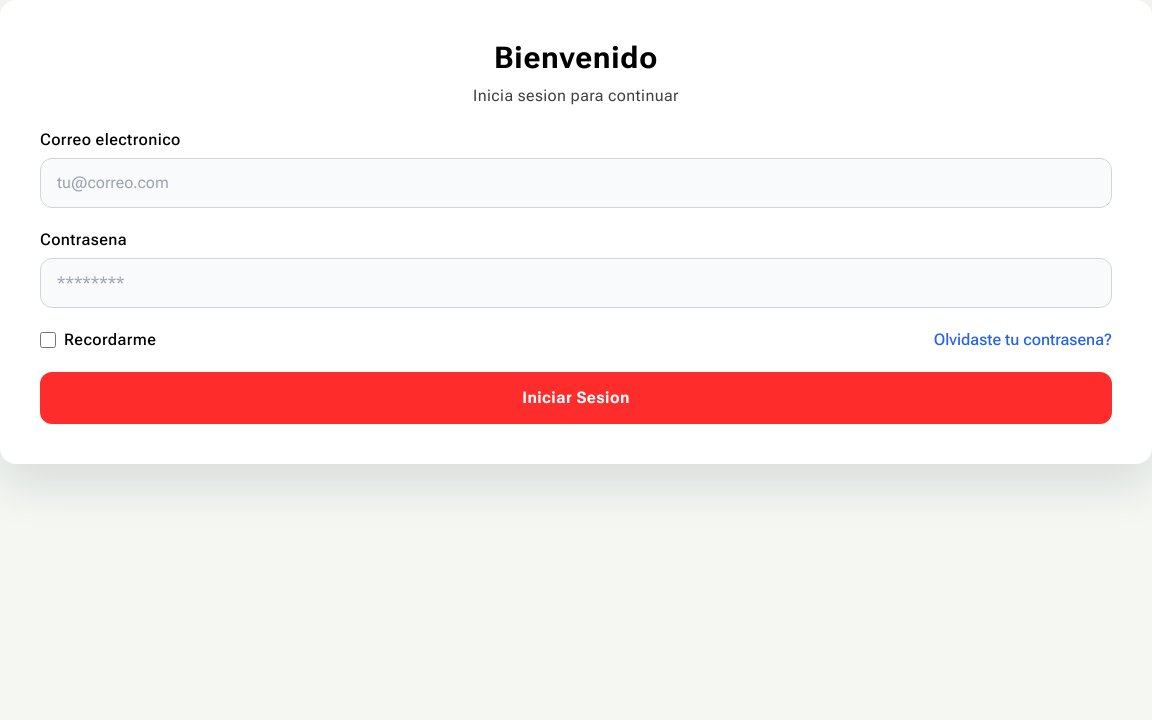
it: LoginForm › muestra error cuando el login falla
Type "ana@test.com" into the field labelled "Correo electronico" at (576, 183), box [40, 158, 1112, 208]
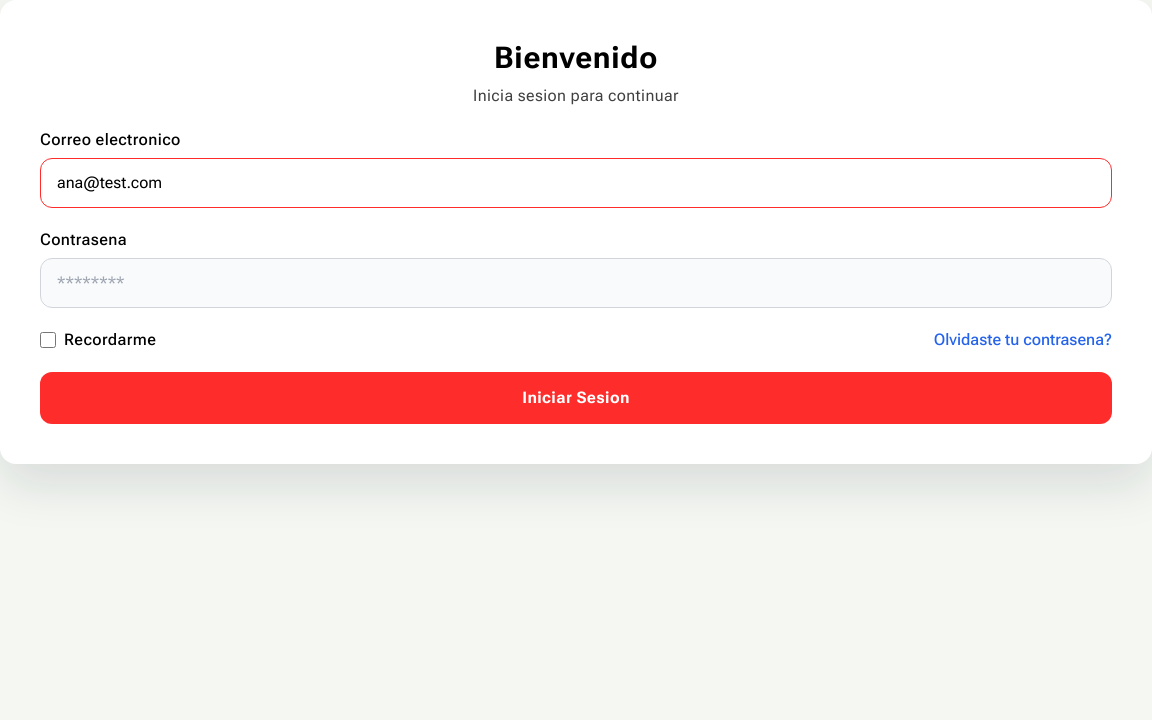
Type "bad-pass" into the password field labelled "Contrasena" at (576, 283), box [40, 258, 1112, 308]
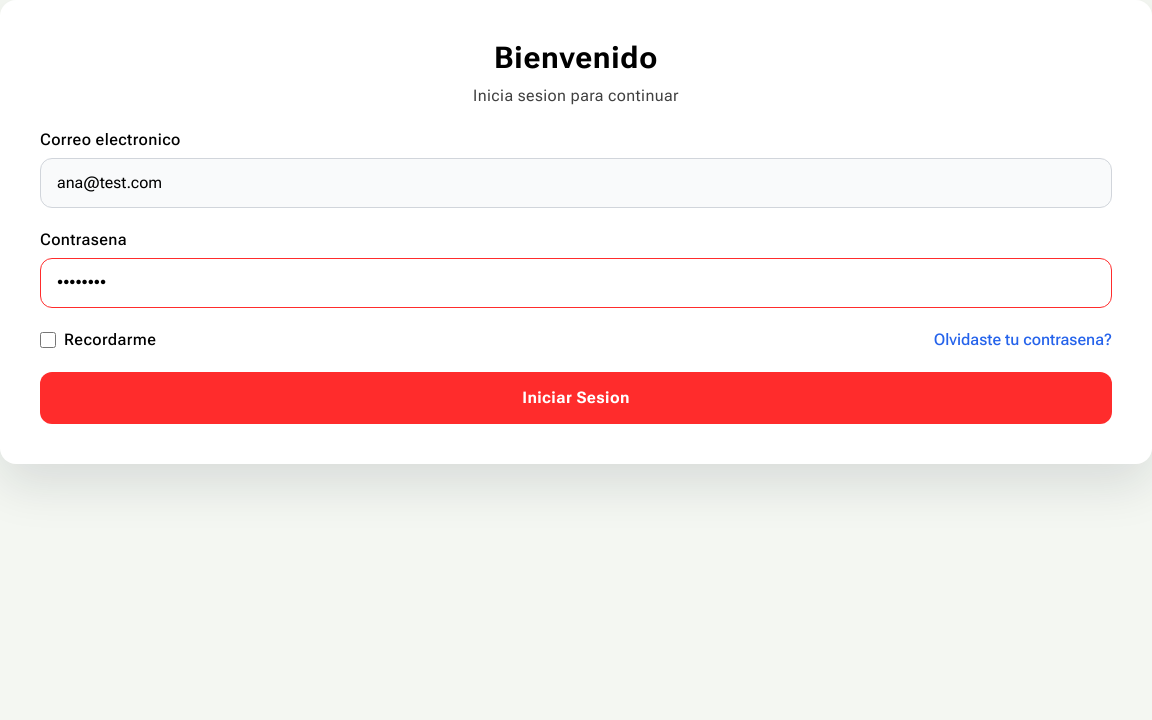
Click the button "Iniciar Sesion" at (576, 398), box [40, 372, 1112, 424]
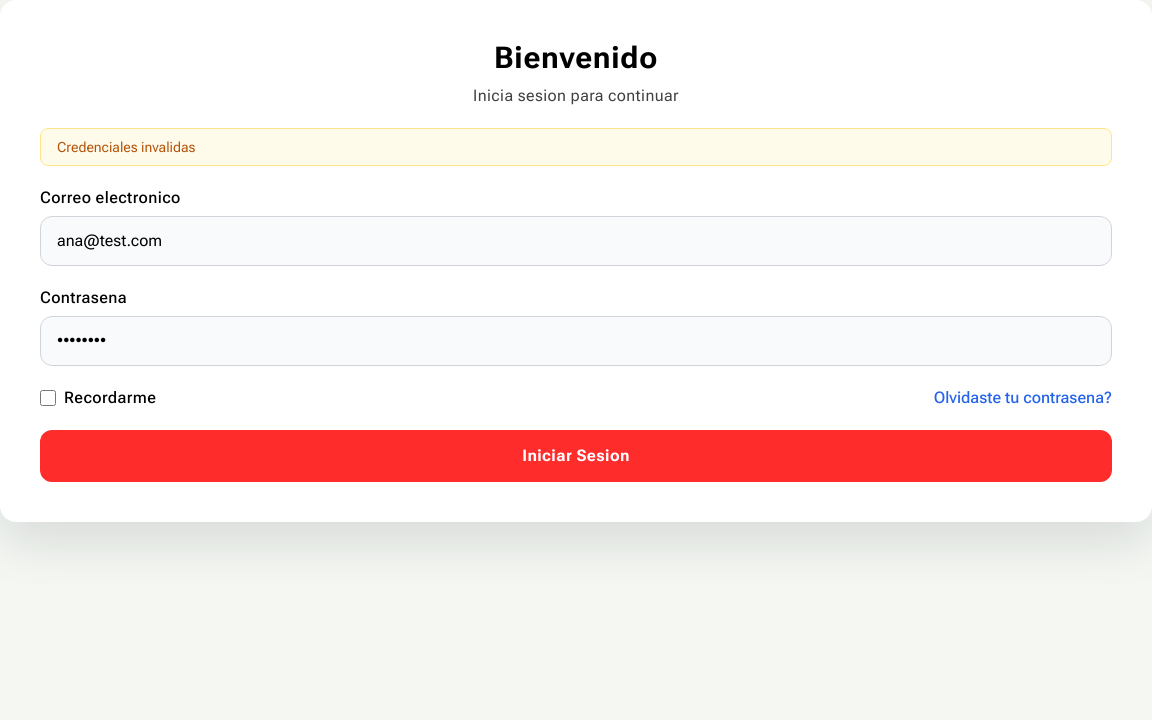
Now the text "Credenciales invalidas" is shown, box [40, 128, 1112, 166]
